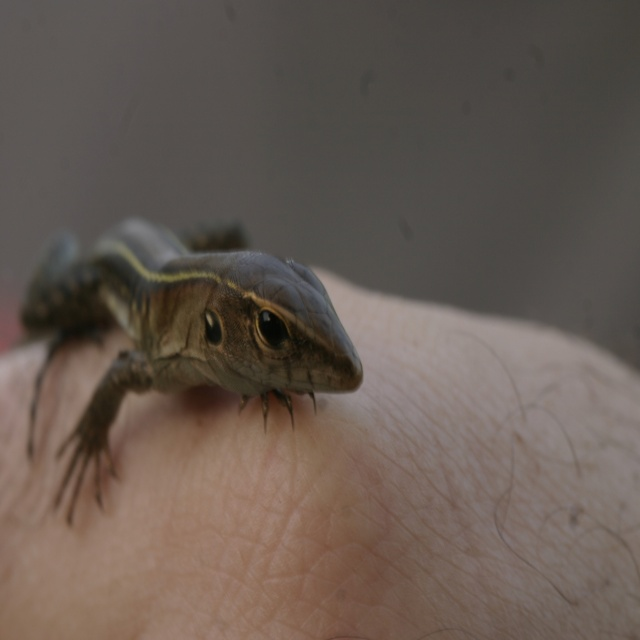Lizard: (0, 231, 381, 554)
